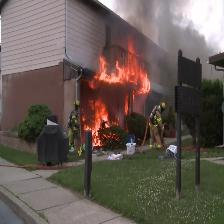nofire: (76, 47, 155, 155)
smoke: (122, 0, 224, 75)
